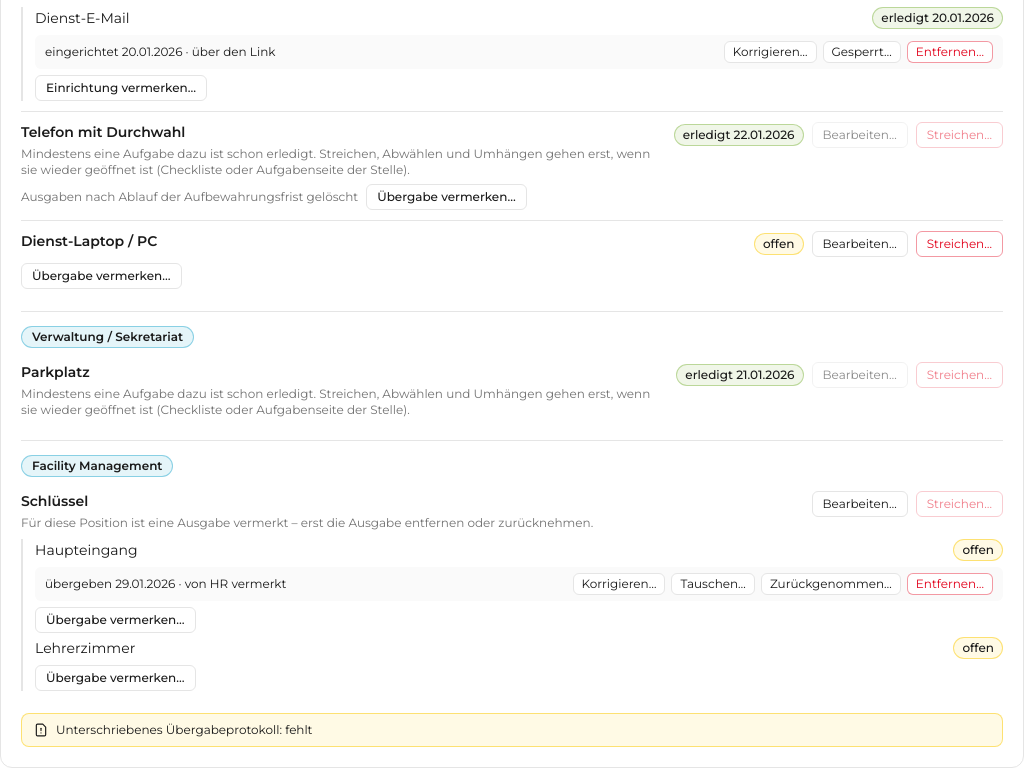
Test: „Bearbeiten…“ einer Position mit vermerktem Stück (G5) › die Option mit aktivem Stück bleibt fest und nennt den Grund; die andere lässt sich abwählen
(page scrolled)
Click the 4th button "Bearbeiten…" at (860, 504), box [812, 491, 908, 517]
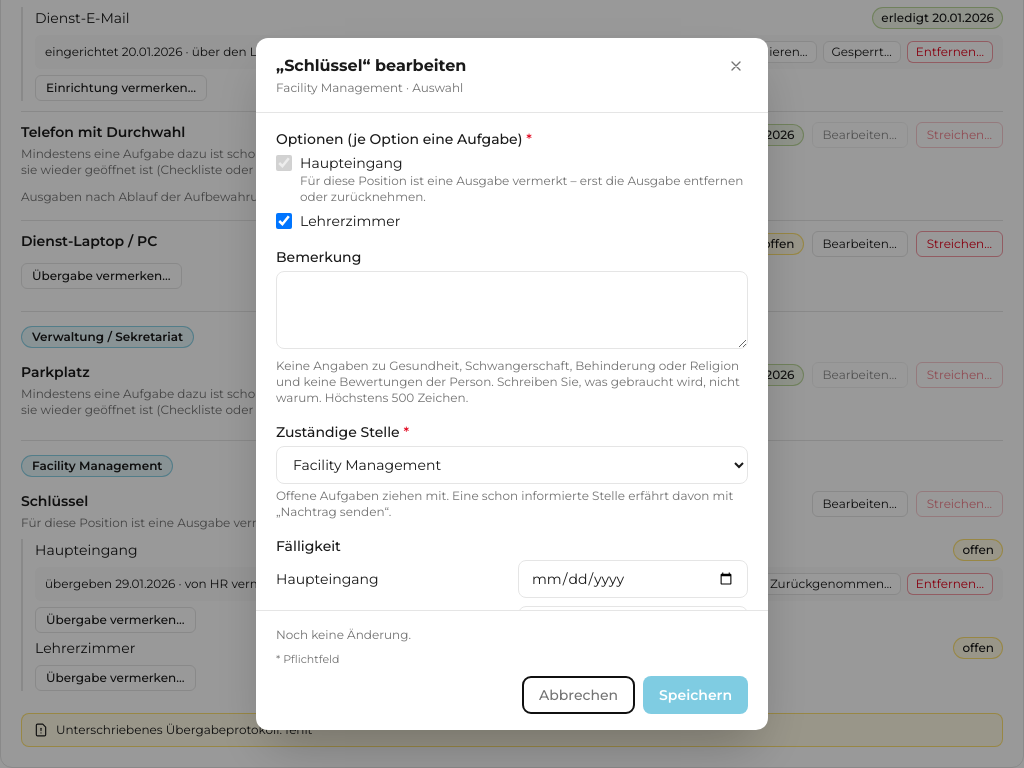
expect the checkbox labelled "Haupteingang" is disabled: met, box [276, 155, 292, 171]
expect the label "Haupteingang" shows "Für diese Position ist eine Ausgabe vermerkt – erst die Ausgabe entfernen oder zurücknehmen.": met, box [300, 173, 743, 204]
expect the checkbox labelled "Lehrerzimmer" is enabled: met, box [276, 213, 292, 229]
